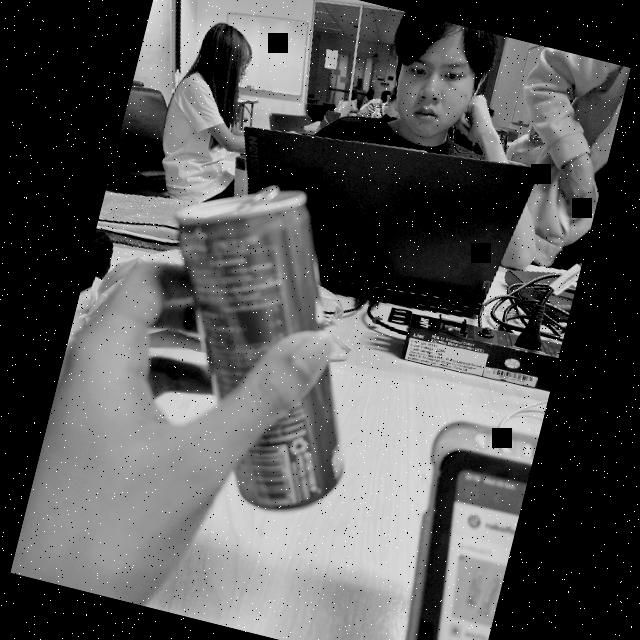can: (100, 165, 428, 533)
